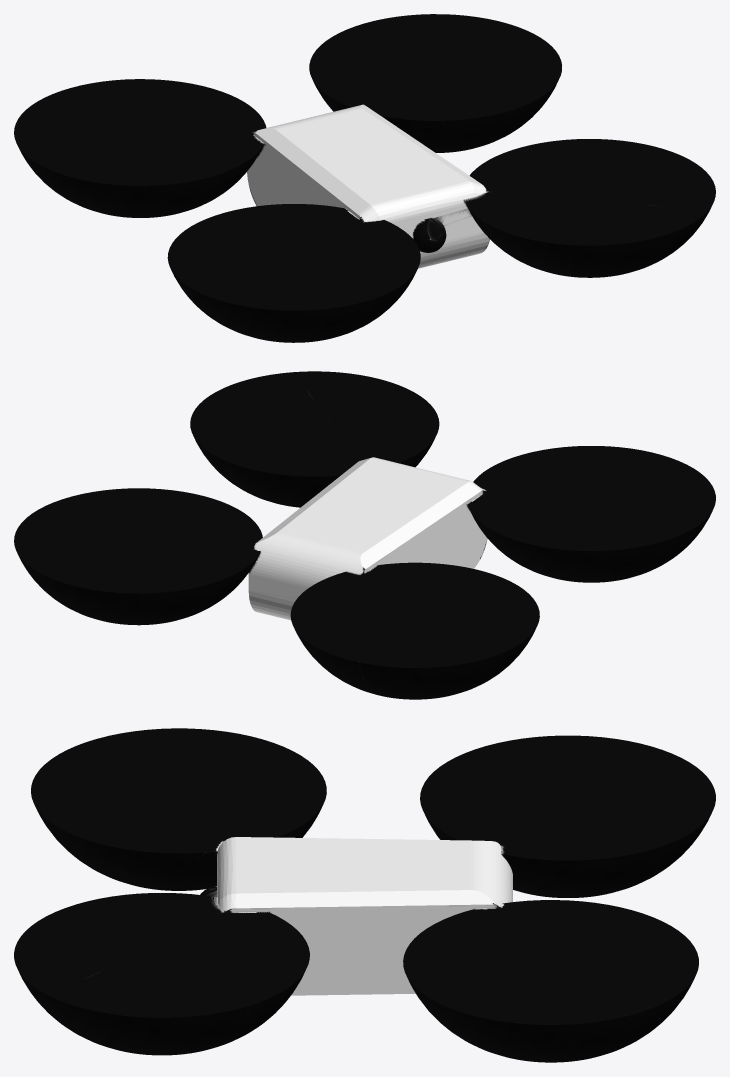
The model's file is Tello.glb.
3 renders of one model, top to bottom at view 1: azimuth 30°, elevation 25°; view 2: azimuth 150°, elevation 25°; view 3: azimuth 270°, elevation 25°, orthographic. The views are drawn at different scales.
Parts seen in each view (by area): view 1: node_id3; view 2: node_id3; view 3: node_id3.
Boxes of the visible parts, left/top/right/bottom form: node_id3: left=14, top=14, right=715, bottom=342; node_id3: left=14, top=371, right=715, bottom=699; node_id3: left=14, top=728, right=715, bottom=1062.
Bounding box in the file's own units: 0.512 × 0.0771 × 0.512.
Materials: 1 (1 with a texture image).
